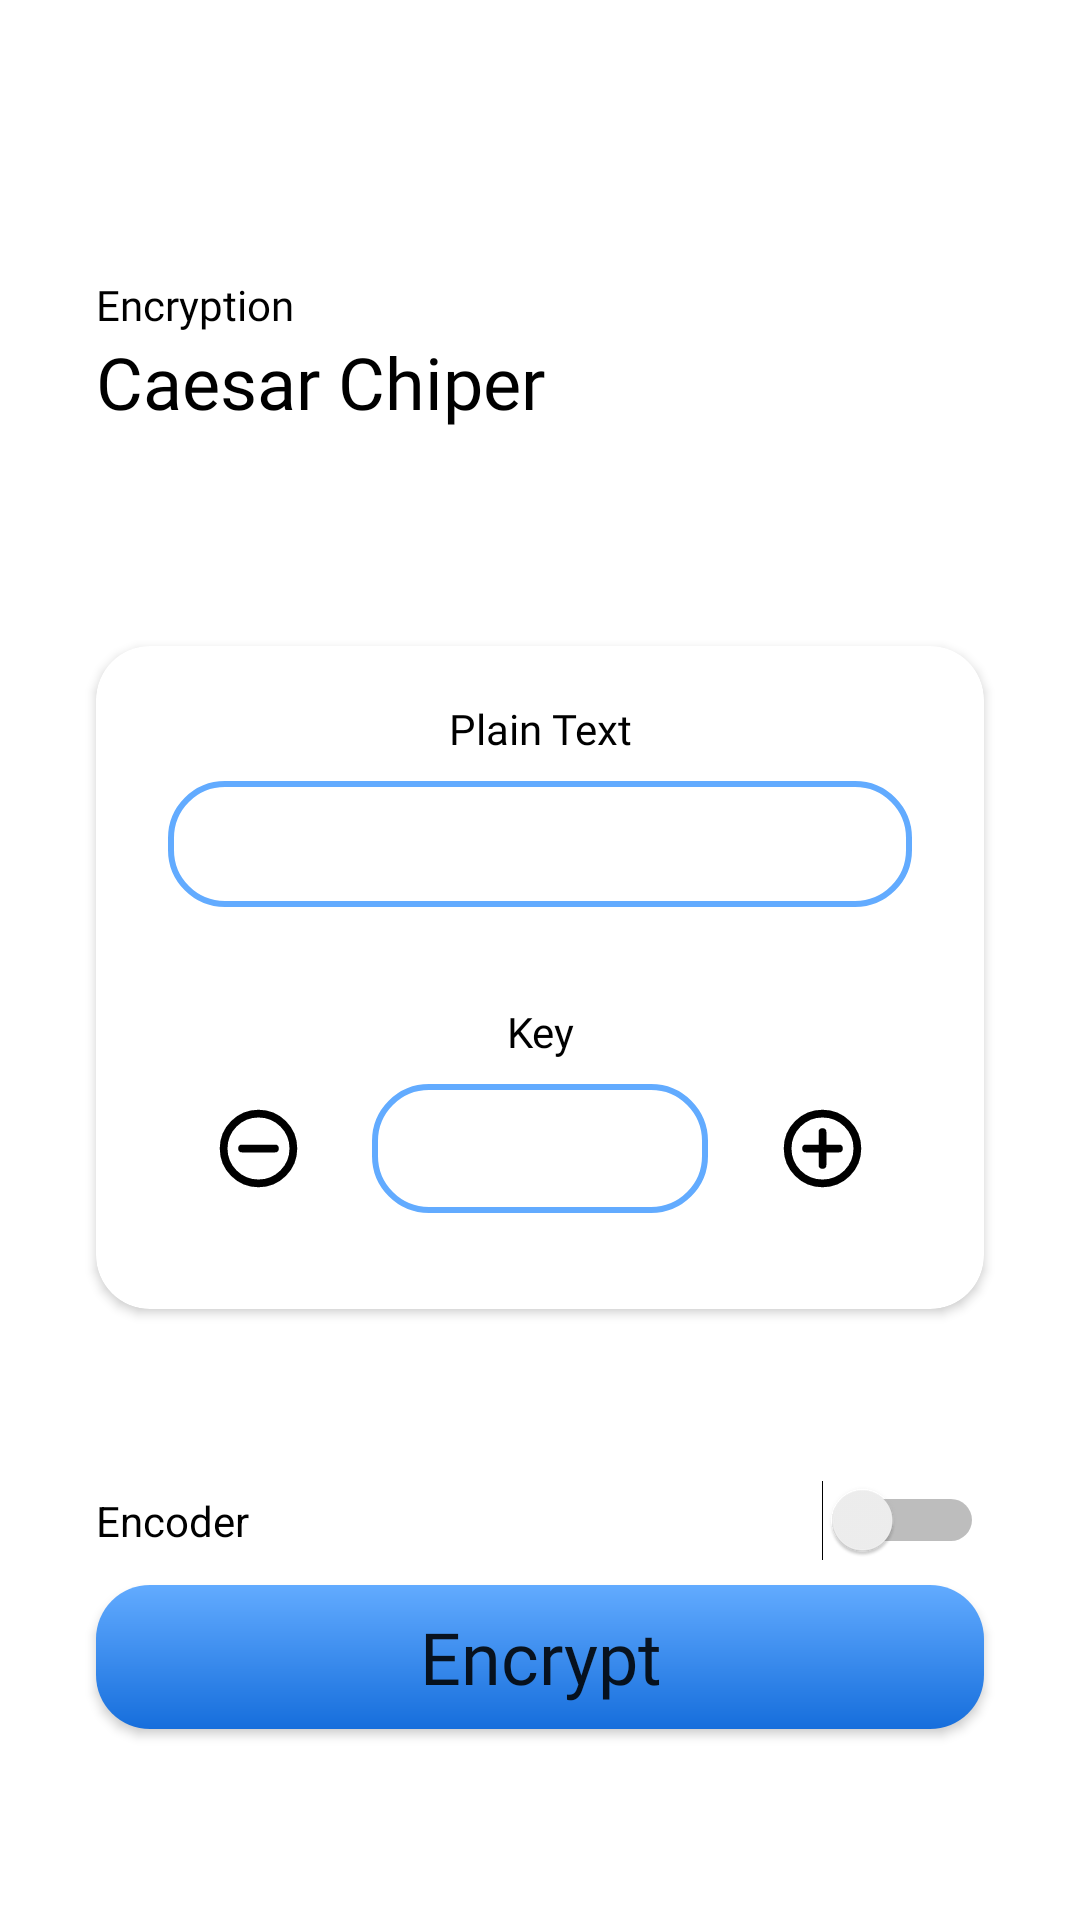

Icon click points for this 1080 x 1920 phone screenshot, format point (x, y):
decrease circle: point (258, 1148)
increase circle: point (822, 1148)
